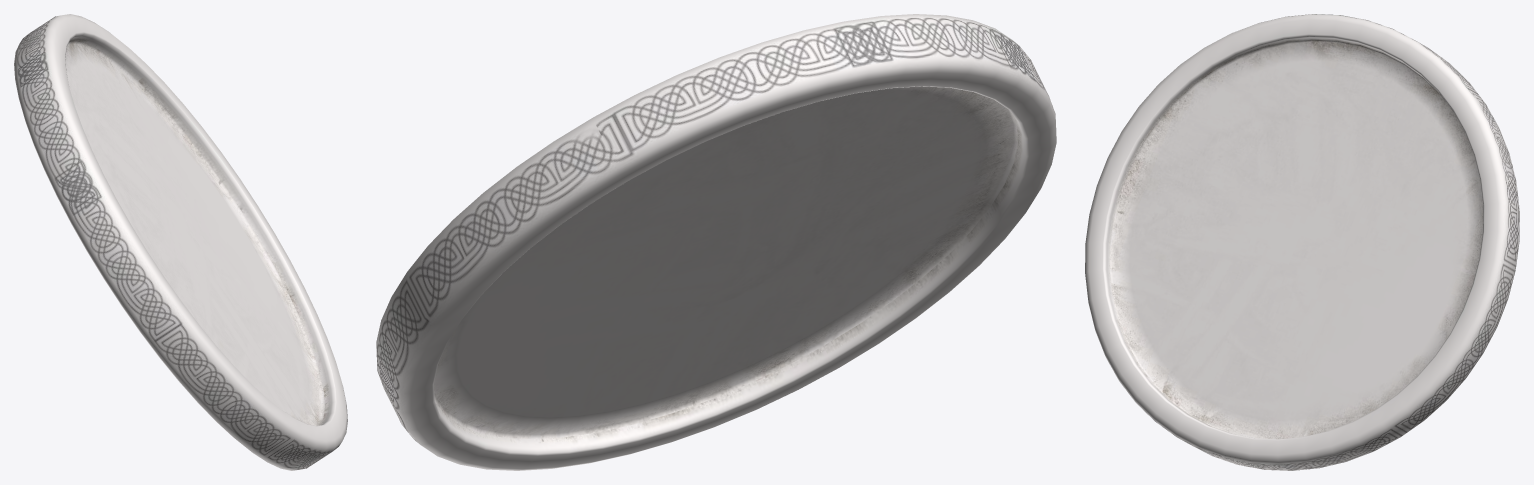
Rendered from coin_player_win.fbx.
3 renders of one model, left to right at view 1: azimuth 30°, elevation 25°; view 2: azimuth 150°, elevation 25°; view 3: azimuth 270°, elevation 25°, orthographic. The views are drawn at different scales.
Visible parts, largest first — view 1: coin-win; view 2: coin-win; view 3: coin-win.
Part boxes in pixels (x1,y1,x2,y2): coin-win: (14, 14, 347, 470); coin-win: (376, 14, 1056, 470); coin-win: (1085, 14, 1519, 470).
Size of the model in its own units: 3.05 by 3.42 by 3.76.
